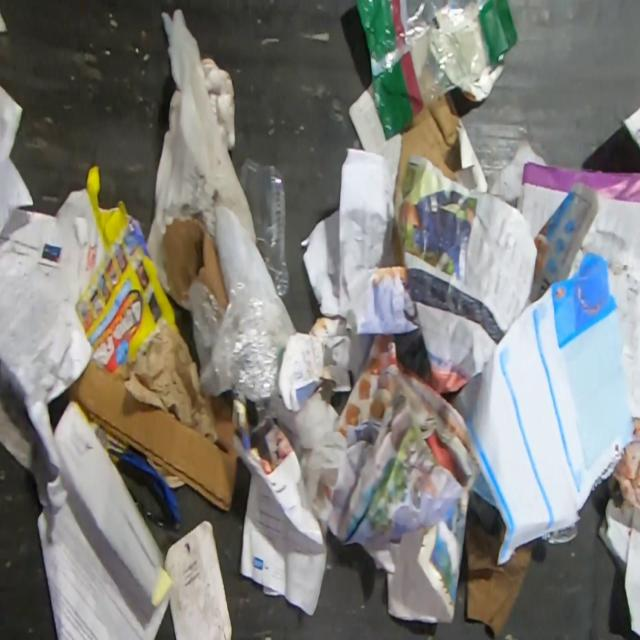cardboard: (75, 359, 239, 514), (74, 164, 180, 373), (347, 81, 461, 205), (464, 511, 534, 638), (163, 216, 228, 313), (89, 420, 129, 465)
rigid_plastic: (239, 156, 290, 298)
soft_plastic: (354, 0, 518, 143), (188, 279, 279, 420)
